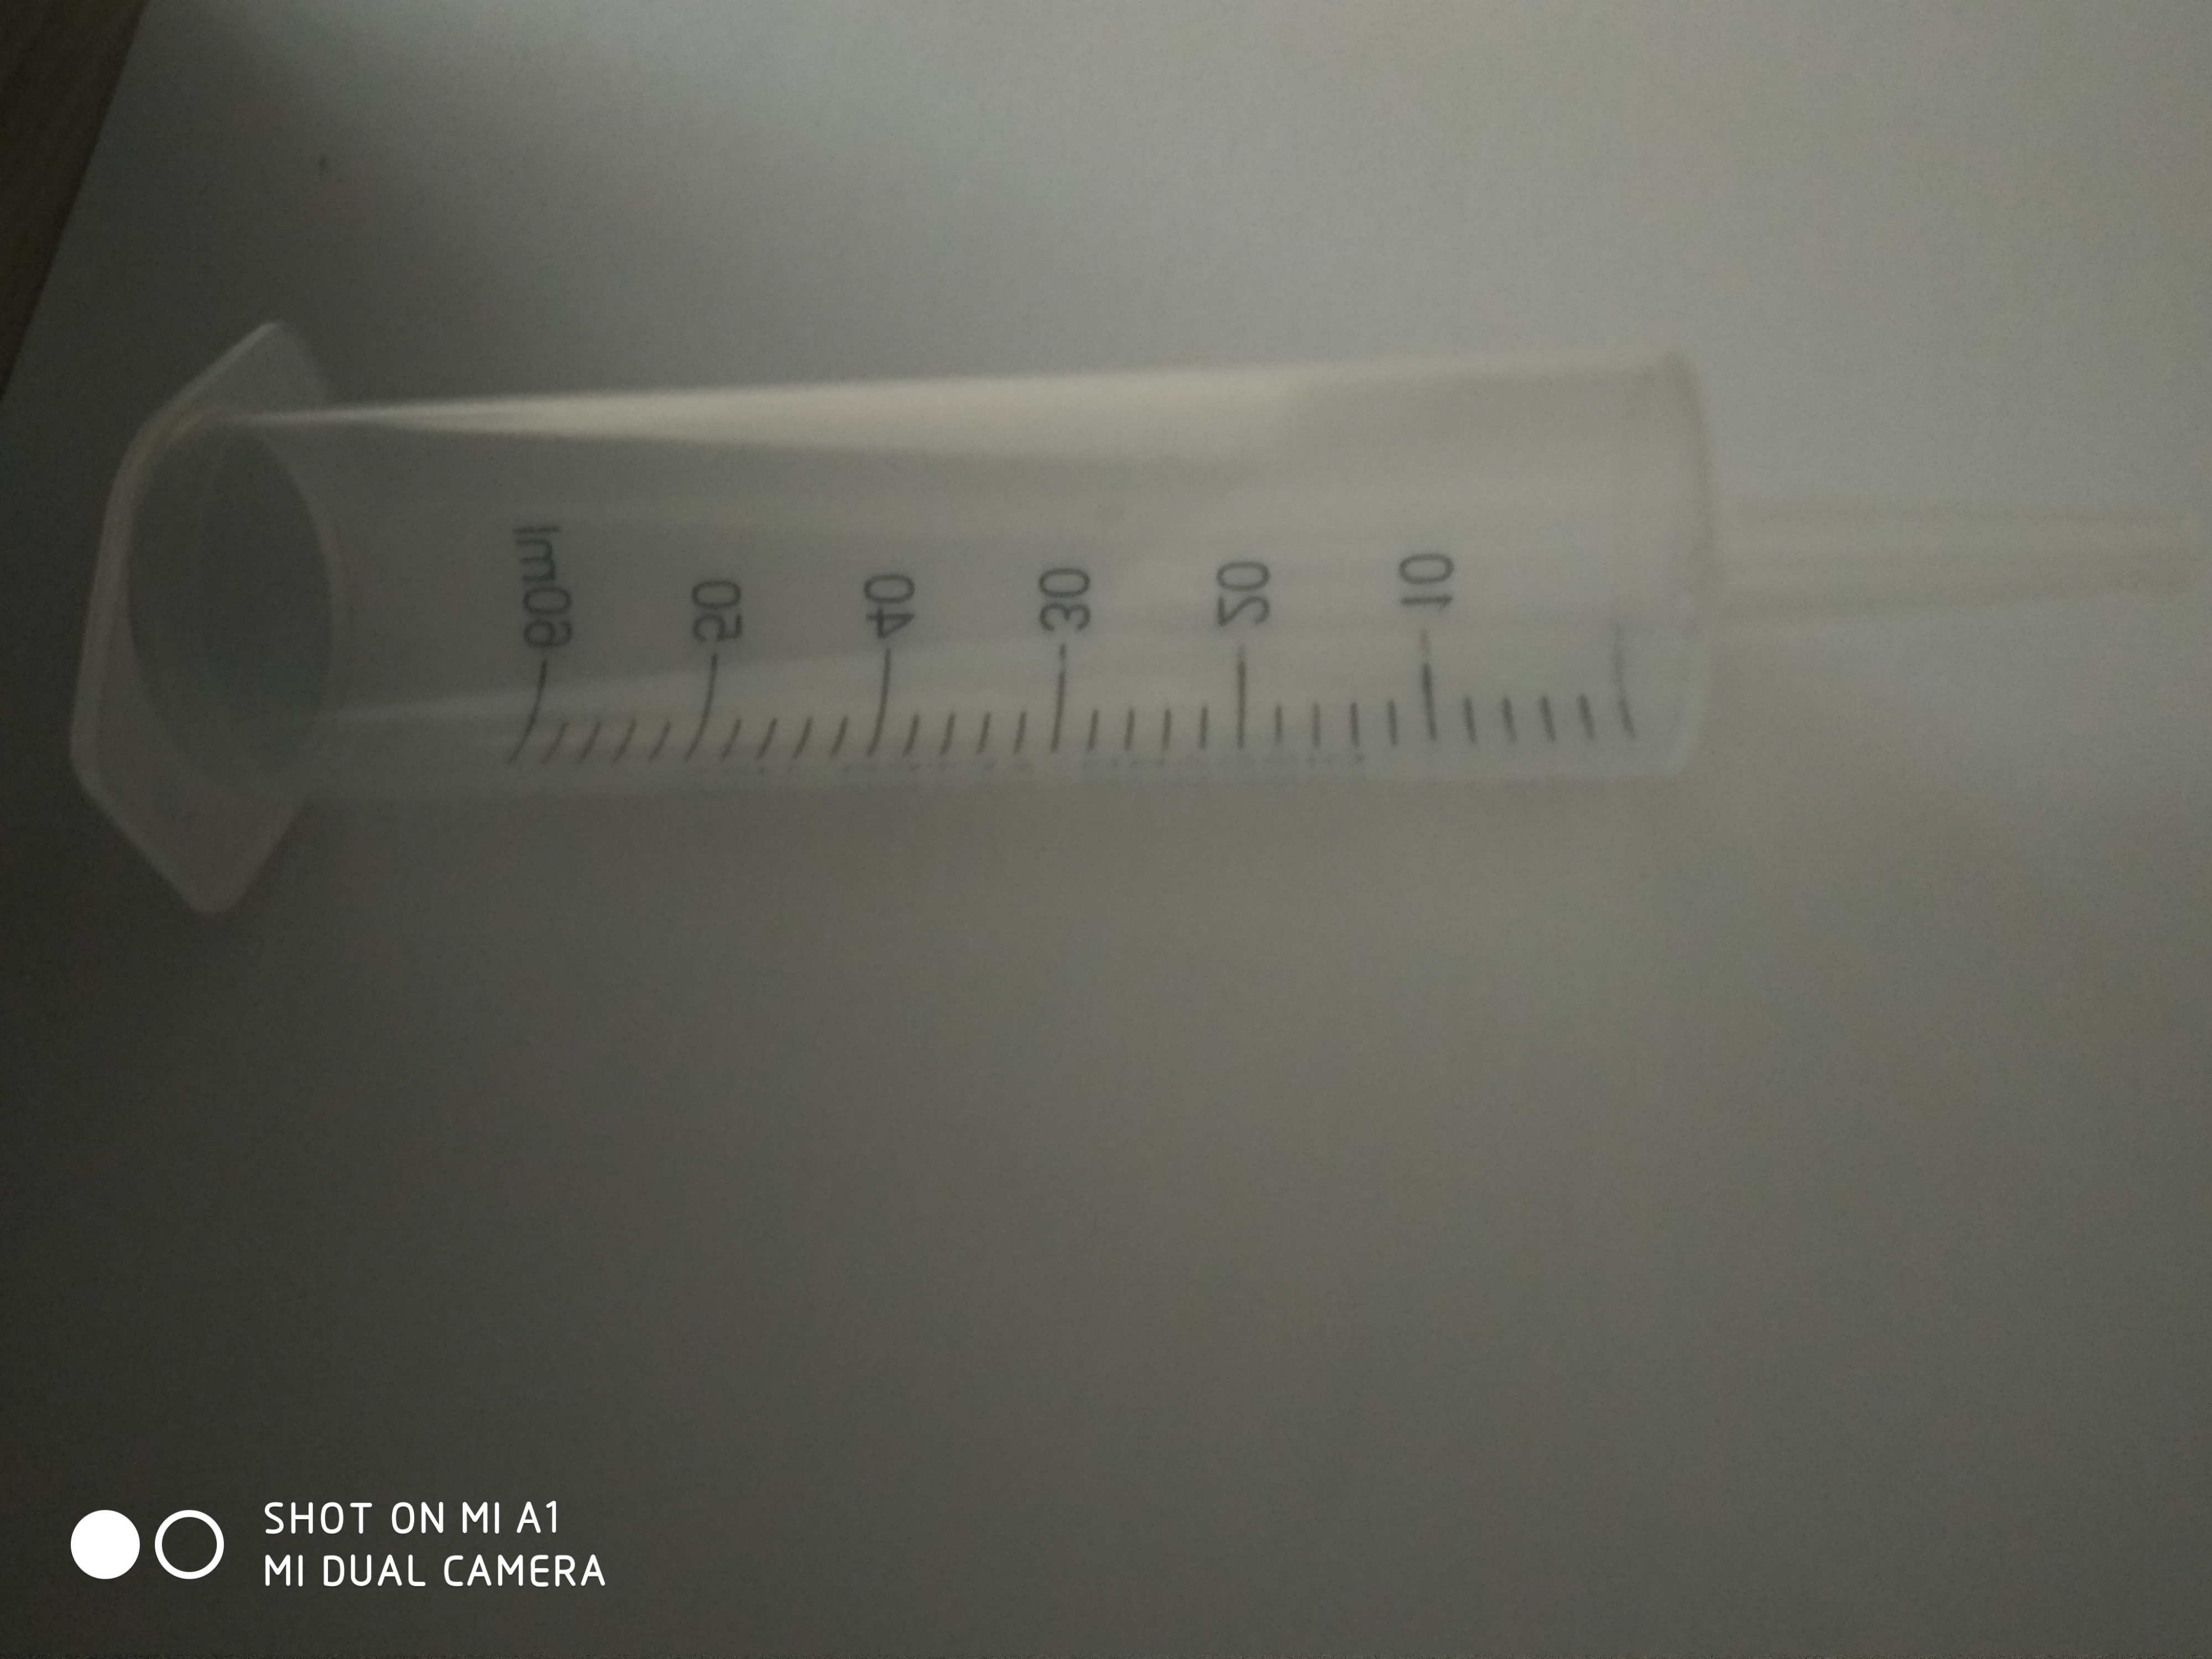syringe: (56, 310, 2209, 922)
